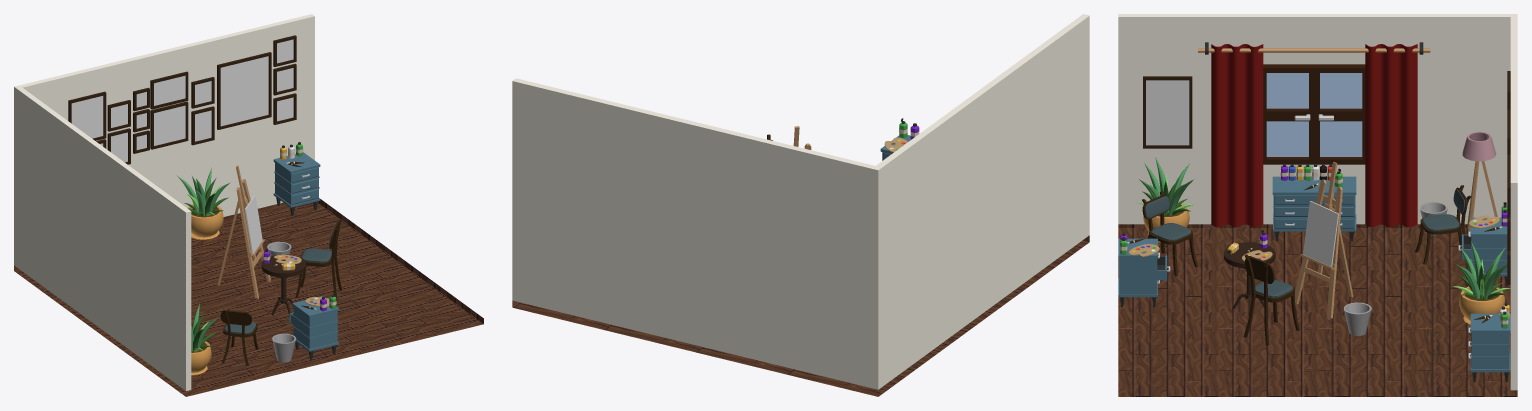
Rendered from not-the-louvre-studio-transformed.glb.
The picture shows the model from 3 angles, left to right: view 1: azimuth 30°, elevation 25°; view 2: azimuth 150°, elevation 25°; view 3: azimuth 270°, elevation 25°; orthographic projection. The views are drawn at different scales.
Parts seen in each view (by area): view 1: Plane.001_duvar_0, Plane_zemin_0, Cone_abajur_0, Cube.001_koyumavi_0, Cube.009_tahta_0, Cube.023_cam_0; view 2: Plane.001_duvar_0, Plane_zemin_0, Cone_abajur_0; view 3: Plane_zemin_0, Plane.001_duvar_0, Cone_abajur_0, Cube.022_perde_0, Cube.001_koyumavi_0, Cube.023_cam_0, Cube.023_pencere_0, Cube.009_tahta_0.
Part boxes in pixels (left/top/right/bottom): Plane.001_duvar_0: left=14, top=14, right=314, bottom=390; Plane_zemin_0: left=14, top=199, right=483, bottom=396; Cone_abajur_0: left=68, top=35, right=341, bottom=375; Cube.001_koyumavi_0: left=273, top=152, right=339, bottom=351; Cube.009_tahta_0: left=217, top=165, right=270, bottom=299; Cube.023_cam_0: left=261, top=254, right=305, bottom=315; Plane.001_duvar_0: left=512, top=14, right=1089, bottom=389; Plane_zemin_0: left=512, top=235, right=1089, bottom=396; Cone_abajur_0: left=767, top=118, right=919, bottom=152; Plane_zemin_0: left=1118, top=224, right=1517, bottom=396; Plane.001_duvar_0: left=1118, top=14, right=1517, bottom=390; Cone_abajur_0: left=1119, top=42, right=1510, bottom=382; Cube.022_perde_0: left=1211, top=44, right=1417, bottom=227; Cube.001_koyumavi_0: left=1118, top=176, right=1510, bottom=372; Cube.023_cam_0: left=1224, top=73, right=1362, bottom=315; Cube.023_pencere_0: left=1263, top=64, right=1365, bottom=164; Cube.009_tahta_0: left=1198, top=48, right=1497, bottom=320.
Bounding box in the file's own units: 3.76 × 2.22 × 3.76.
8 materials, 8 textured.
